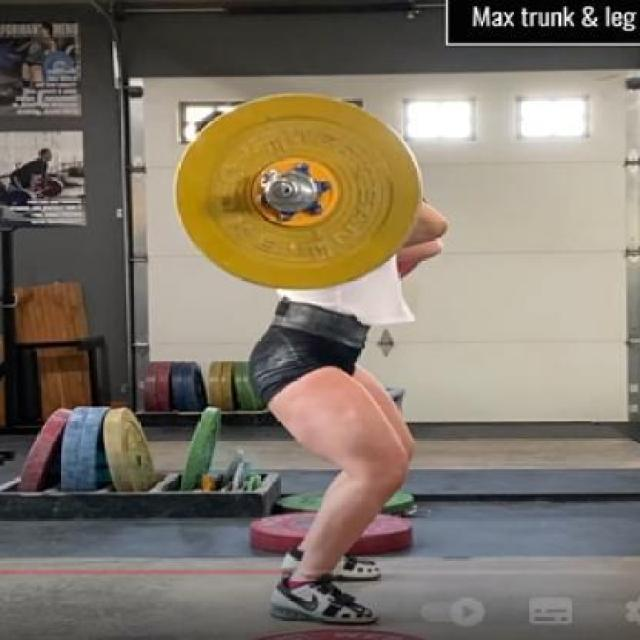barbell: (171, 88, 427, 297)
